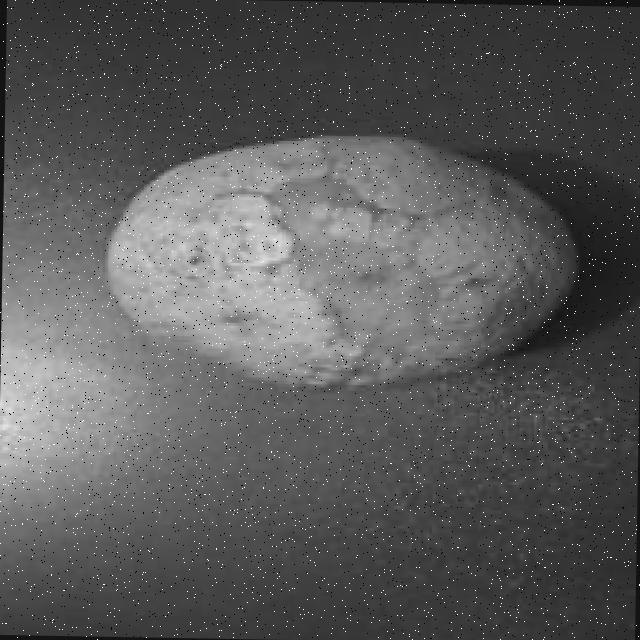overripe: (93, 120, 592, 402)
